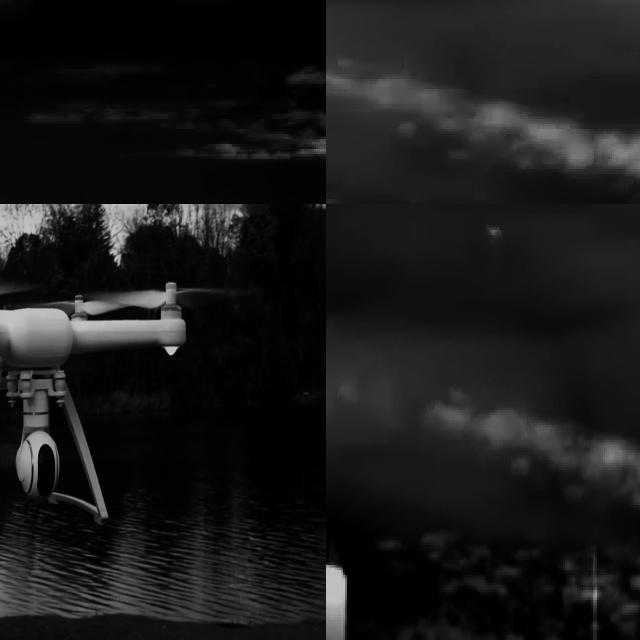0: (475, 215, 509, 253)
drone: (0, 273, 185, 534)
